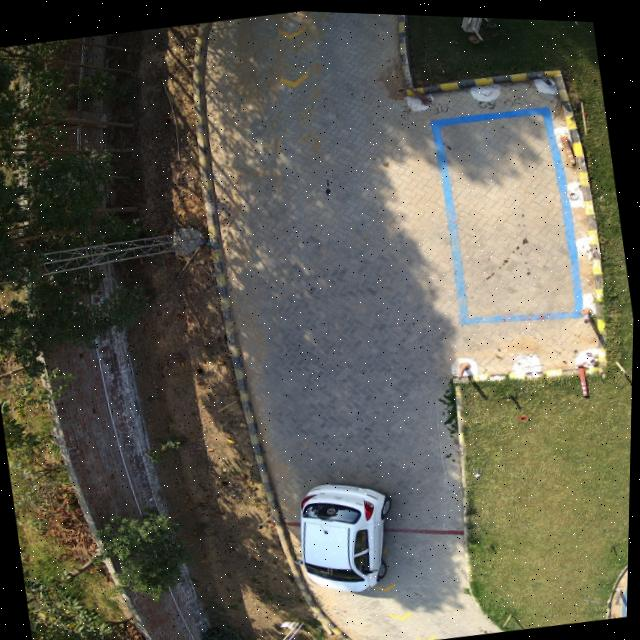car: (303, 479, 394, 588)
